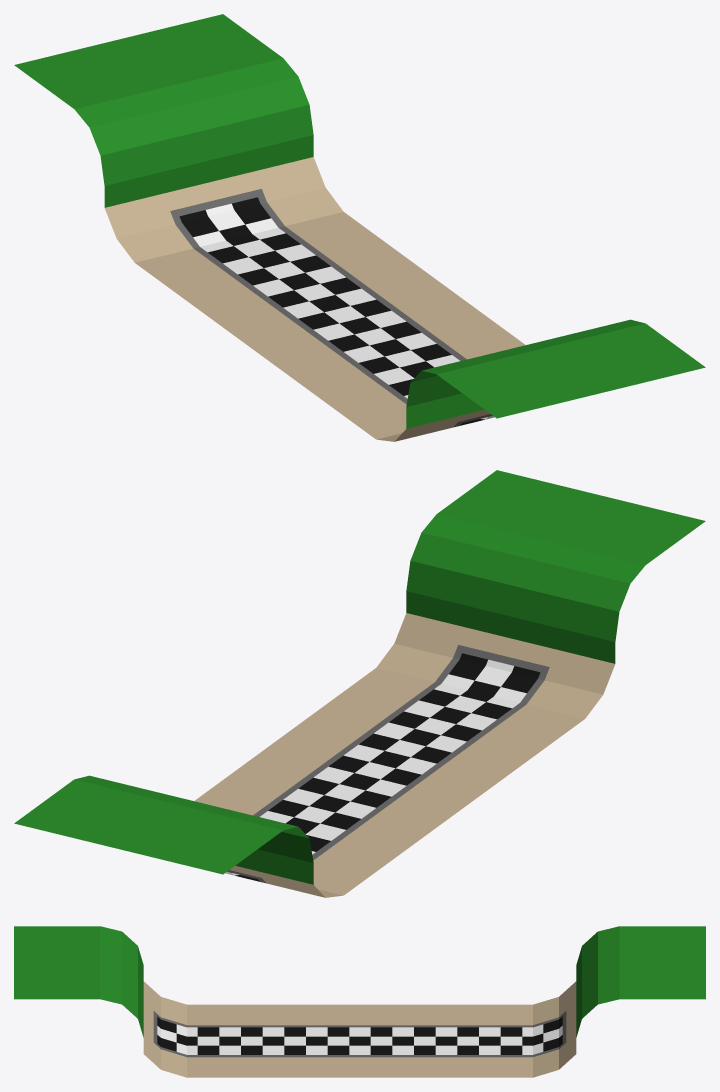
The model's file is Track_Standard_Finish_Line_Double_Checkered.obj.
The picture shows the model from 3 angles, top to bottom: view 1: azimuth 30°, elevation 25°; view 2: azimuth 150°, elevation 25°; view 3: azimuth 270°, elevation 25°; orthographic projection. The views are drawn at different scales.
Parts seen in each view (by area): view 1: Grass, Dirt, Track_Finish_Line_Black, Track_Finish_Line_White, Track_Finish_Line_Border; view 2: Grass, Dirt, Track_Finish_Line_Black, Track_Finish_Line_White, Track_Finish_Line_Border; view 3: Dirt, Grass, Track_Finish_Line_Black, Track_Finish_Line_White, Track_Finish_Line_Border.
Boxes of the visible parts, x1,y1,x2,y2 form: Grass: (14, 14, 705, 428); Dirt: (104, 157, 525, 441); Track_Finish_Line_Black: (179, 197, 484, 425); Track_Finish_Line_White: (193, 203, 494, 419); Track_Finish_Line_Border: (170, 189, 492, 427); Grass: (14, 470, 705, 884); Dirt: (194, 613, 615, 897); Track_Finish_Line_Black: (235, 653, 540, 881); Track_Finish_Line_White: (225, 659, 526, 875); Track_Finish_Line_Border: (227, 645, 549, 883); Dirt: (143, 981, 576, 1077); Grass: (14, 926, 705, 1037); Track_Finish_Line_Black: (157, 1016, 562, 1054); Track_Finish_Line_White: (157, 1024, 562, 1054); Track_Finish_Line_Border: (153, 1011, 566, 1057).
Bounding box in the file's own units: 1 × 0.5 × 4.
